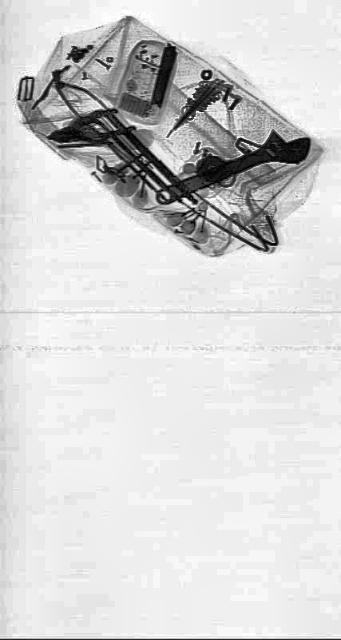Pliers: (45, 96, 135, 158)
Wrench: (151, 114, 312, 216)
